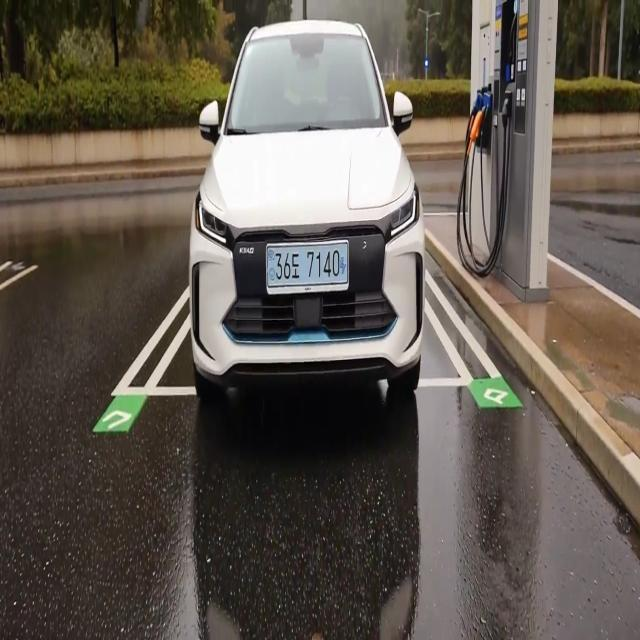car: (263, 244, 351, 292)
carev: (265, 243, 278, 291), (338, 256, 348, 280)
